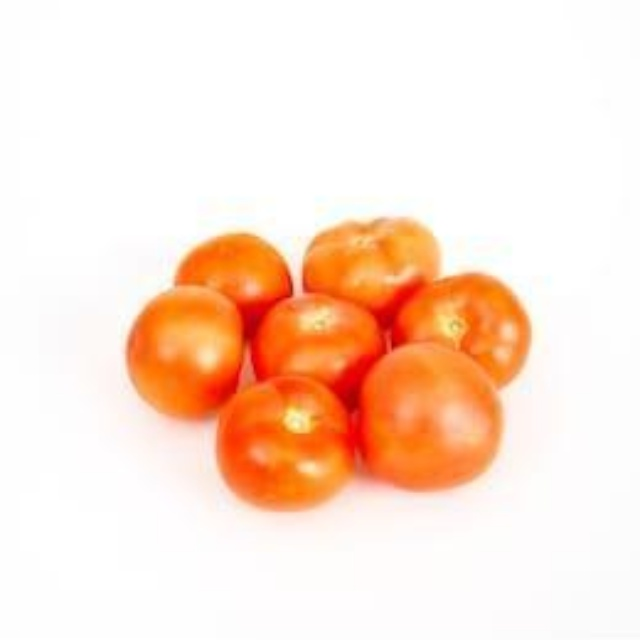tomato: (218, 368, 352, 506), (377, 353, 505, 488), (257, 291, 390, 414), (137, 269, 239, 420), (399, 275, 531, 384), (307, 214, 435, 309), (176, 235, 296, 325)
